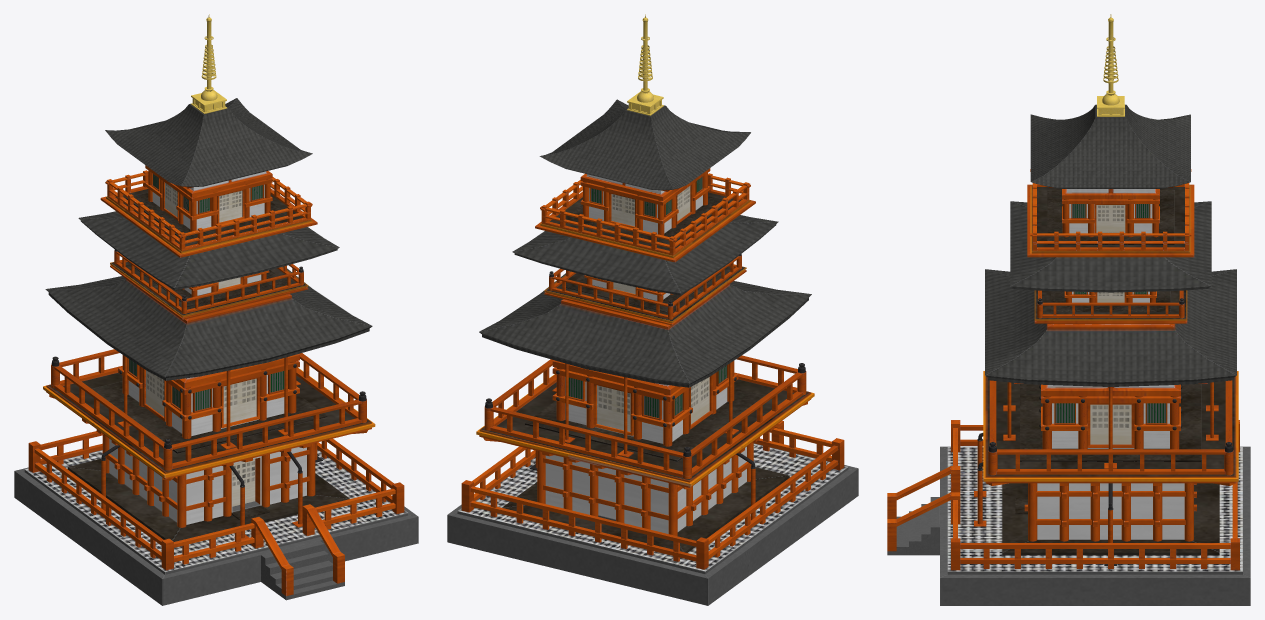
The picture shows the model from 3 angles, left to right: view 1: azimuth 30°, elevation 25°; view 2: azimuth 150°, elevation 25°; view 3: azimuth 270°, elevation 25°; orthographic projection. The views are drawn at different scales.
Parts seen in each view (by area): view 1: Japanese_Shrine; view 2: Japanese_Shrine; view 3: Japanese_Shrine.
Part boxes in pixels (x1=…): Japanese_Shrine: x1=14, y1=14, x2=418, y2=605; Japanese_Shrine: x1=447, y1=14, x2=858, y2=605; Japanese_Shrine: x1=887, y1=14, x2=1250, y2=605.
Size of the model in its own units: 2000 by 3738 by 2340.
